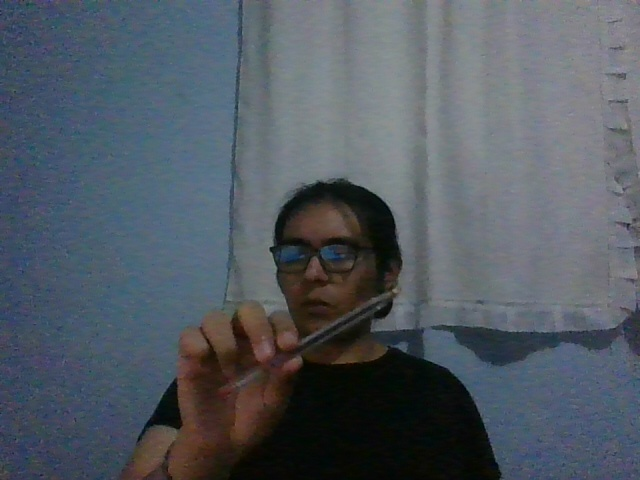pluma: (215, 285, 404, 400)
